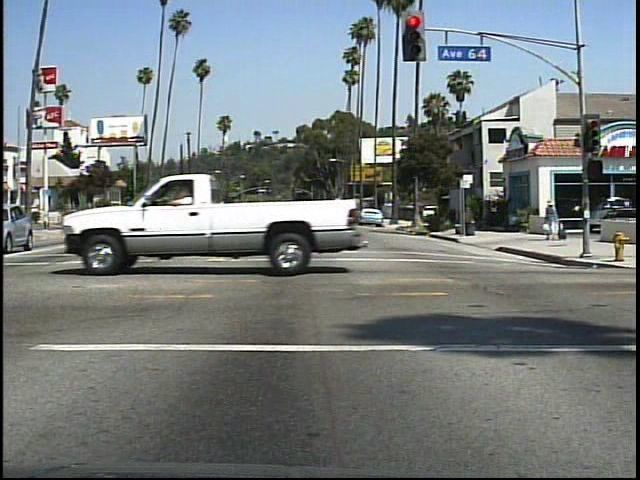person: (539, 193, 566, 247)
